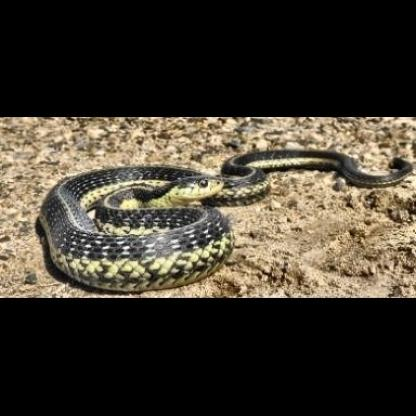Snake: (41, 144, 416, 290)
